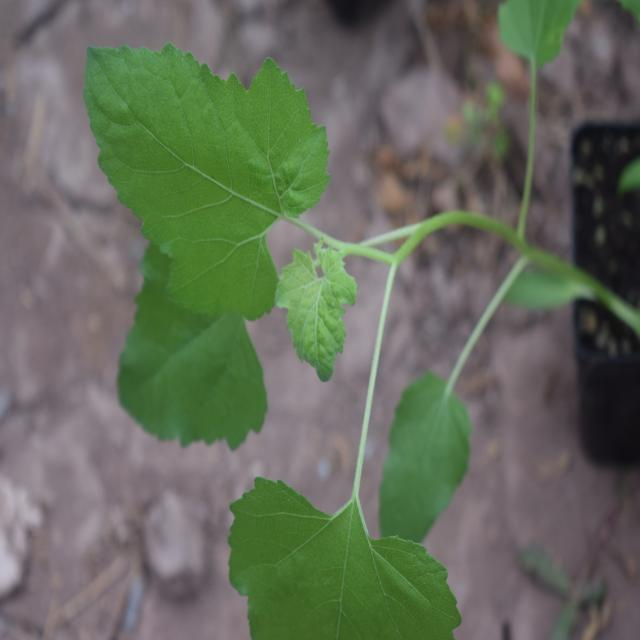cocklebur: (57, 23, 479, 626)
